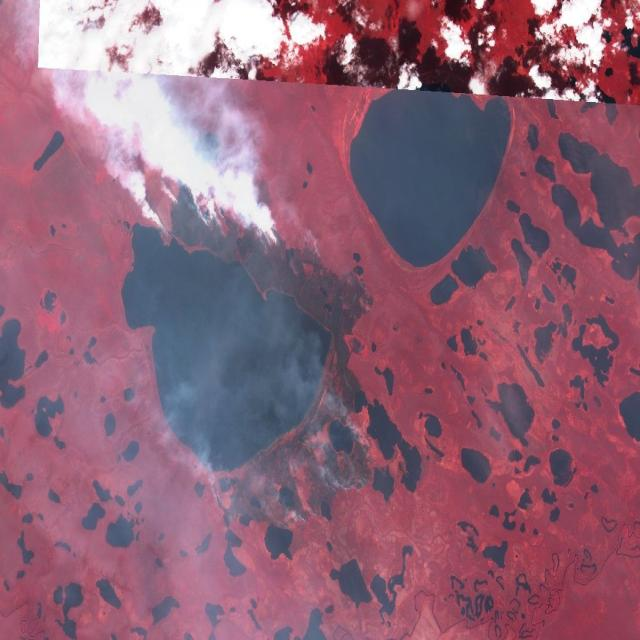fire: (144, 165, 370, 322), (218, 391, 376, 519)
